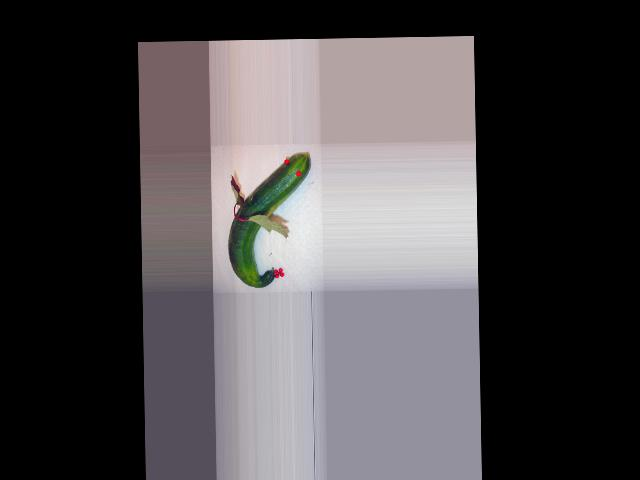cucumber: (226, 153, 313, 288)
